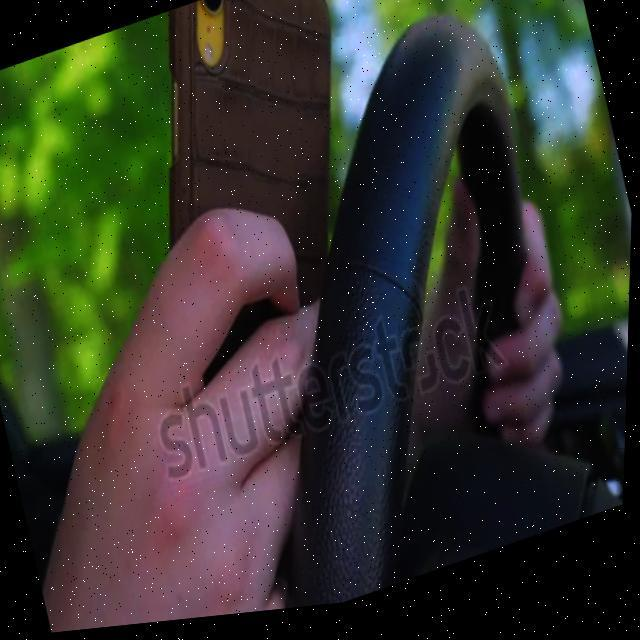PhoneCall: (103, 0, 402, 380)
